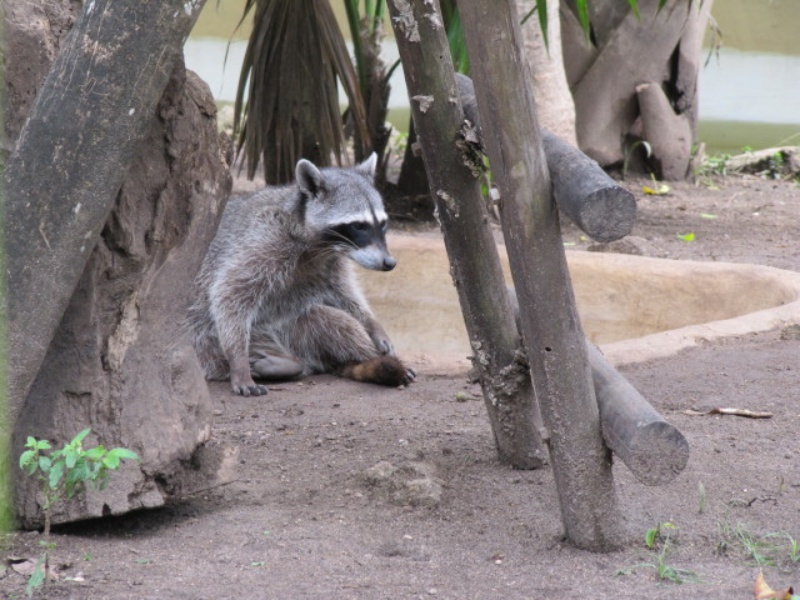raccoon: (193, 151, 419, 403)
